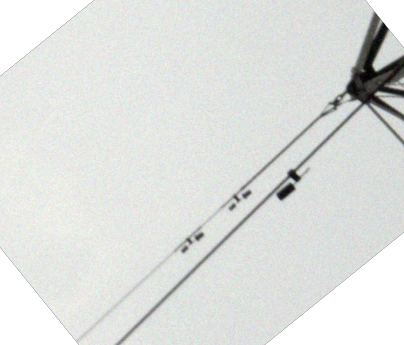damper: (180, 229, 205, 254), (227, 189, 252, 211)
damper_defect: (274, 163, 312, 202)
